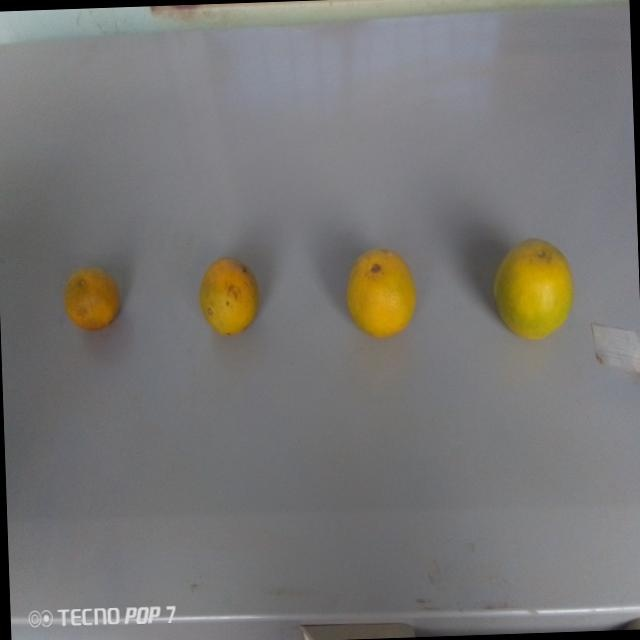agrume: (488, 230, 584, 343), (340, 234, 421, 354), (194, 251, 266, 349), (57, 260, 131, 340)
